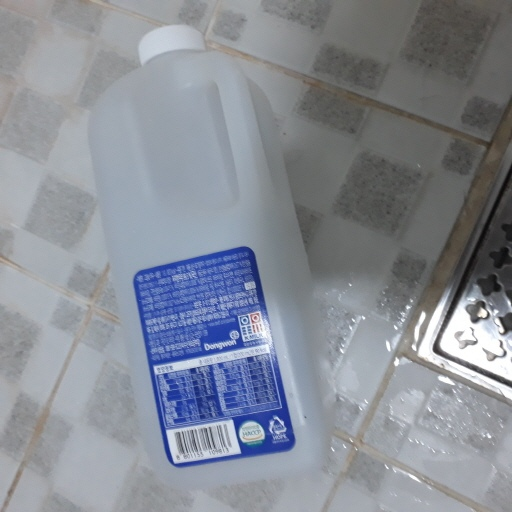Plastic_1: (86, 22, 331, 484)
